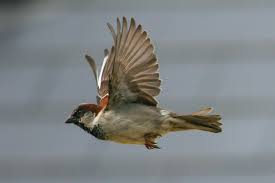hsparrow: (59, 14, 228, 159)
